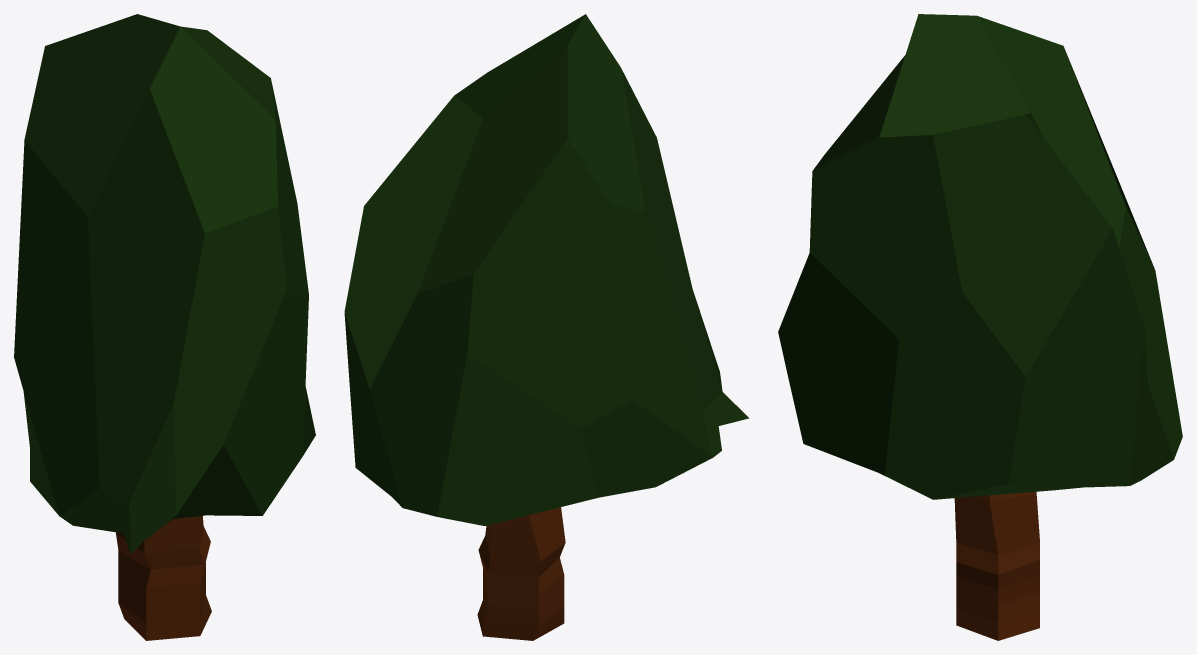
The model's file is tree 3.fbx.
3 renders of one model, left to right at view 1: azimuth 30°, elevation 25°; view 2: azimuth 150°, elevation 25°; view 3: azimuth 270°, elevation 25°, orthographic. The views are drawn at different scales.
Parts seen in each view (by area): view 1: tree 3; view 2: tree 3; view 3: tree 3.
Boxes of the visible parts, <box> form: tree 3: <box>14,14,315,640</box>; tree 3: <box>344,14,748,640</box>; tree 3: <box>778,14,1182,640</box>.
Size of the model in its own units: 1398 by 1826 by 2953.
